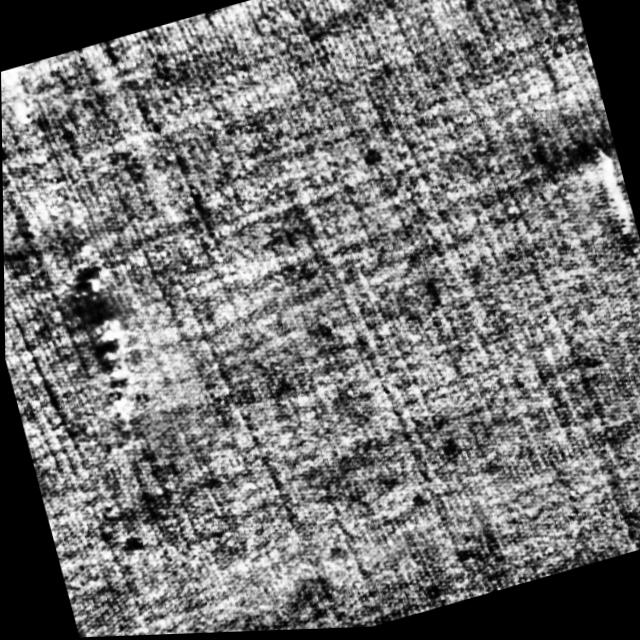Stitch: (51, 251, 149, 432)
